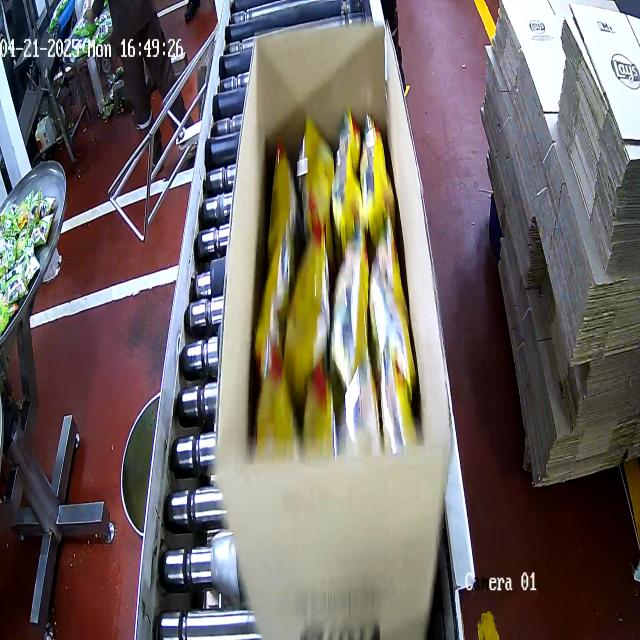SALTED: (247, 114, 408, 454)
